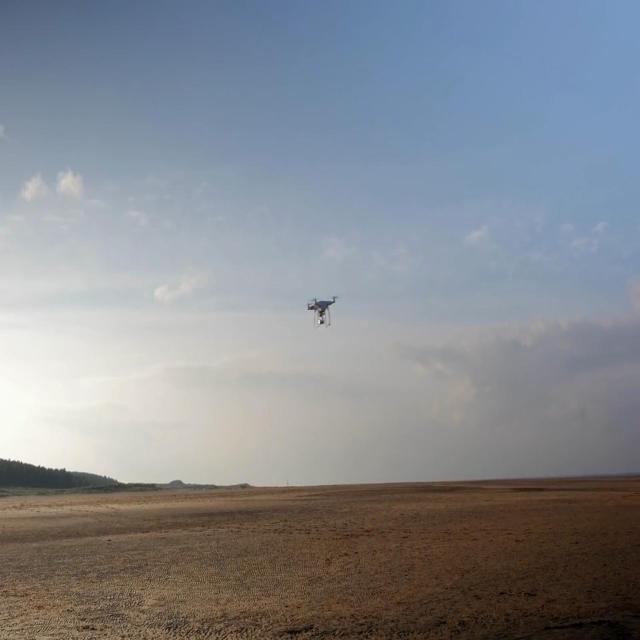drone: (307, 291, 337, 328)
